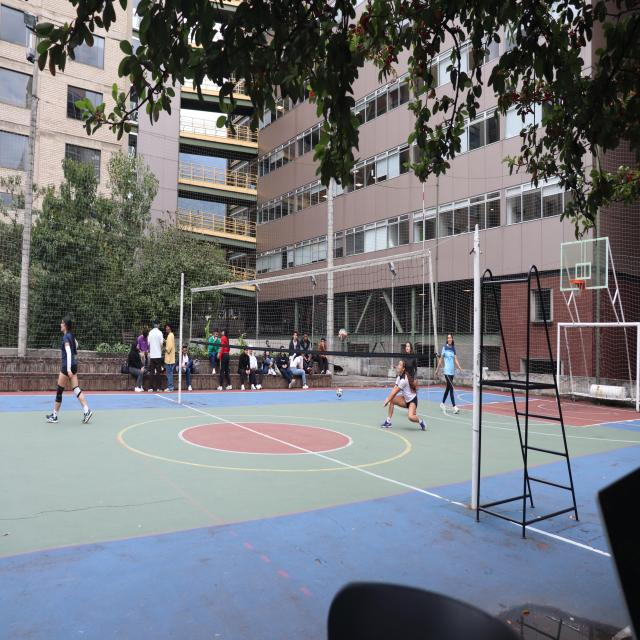volleyball: (338, 329, 347, 343), (337, 388, 342, 397)
